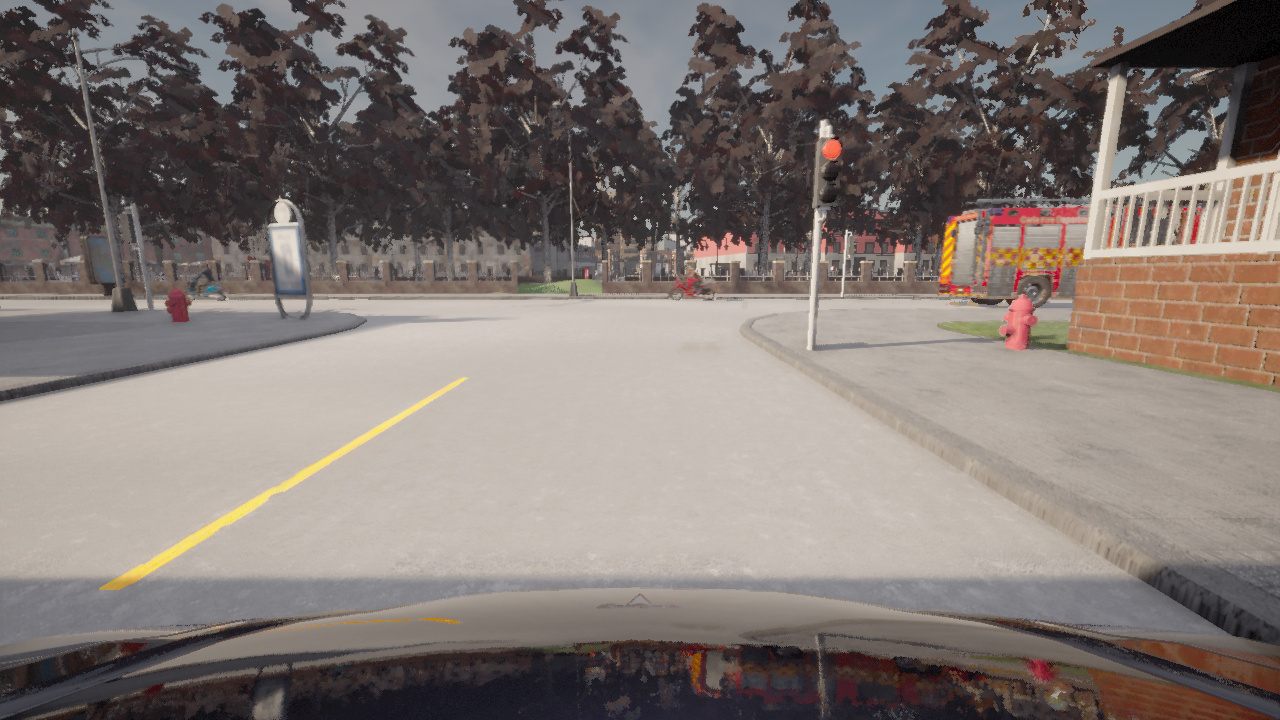cyclist: (0, 588, 1279, 719), (937, 197, 1203, 308), (668, 274, 715, 300), (186, 273, 227, 300)
pedestrian: (1161, 244, 1165, 245)
